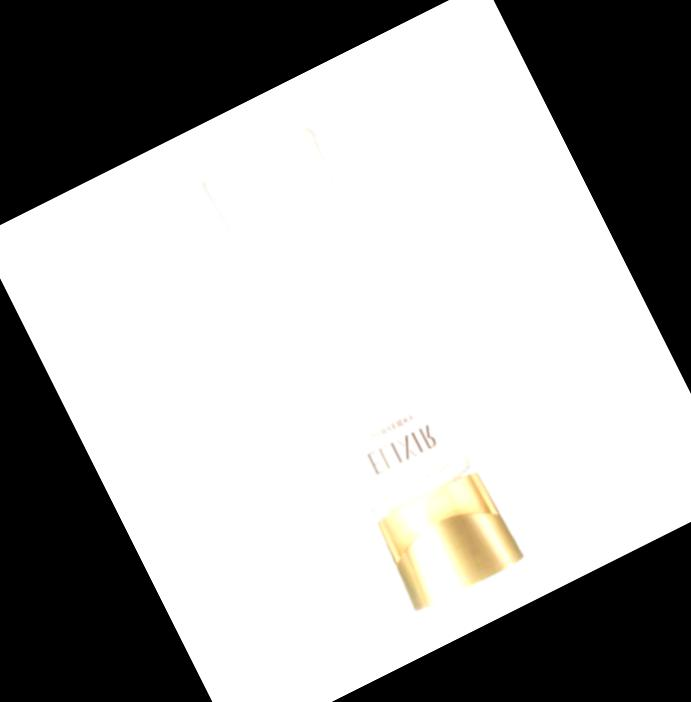cosmetic: (198, 119, 529, 614)
